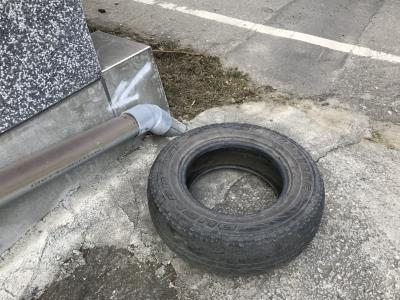tire: (145, 121, 327, 279)
